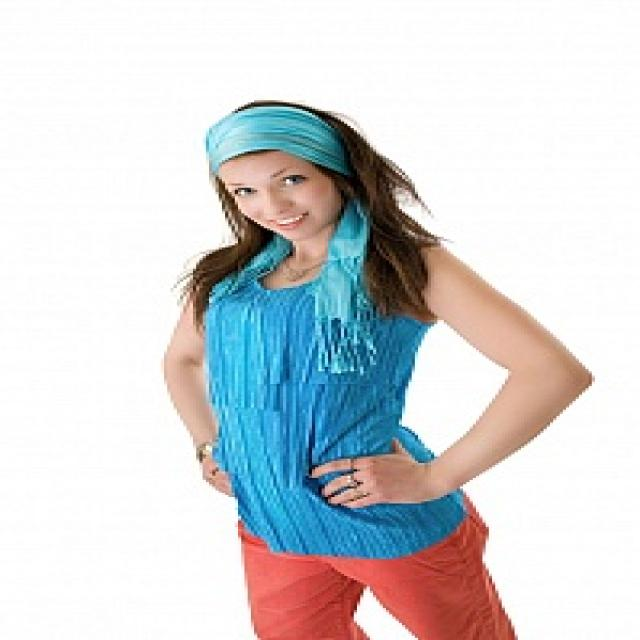Eyes: (210, 170, 332, 199)
